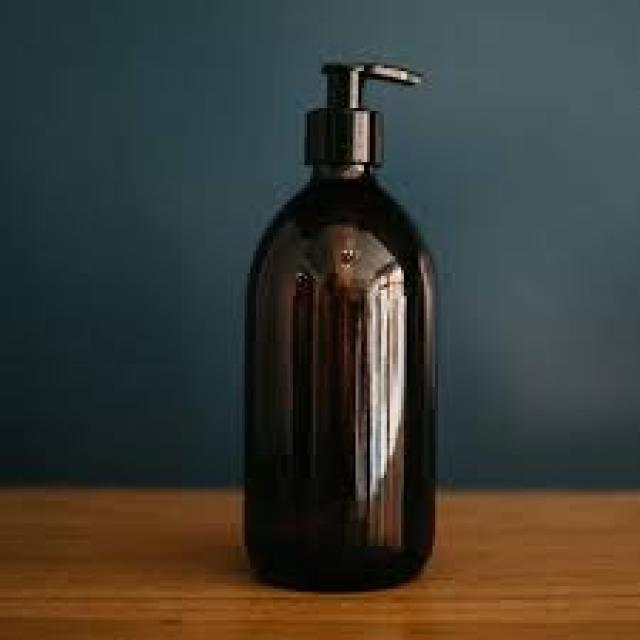glass: (239, 157, 435, 592)
plastic: (301, 57, 421, 162)
